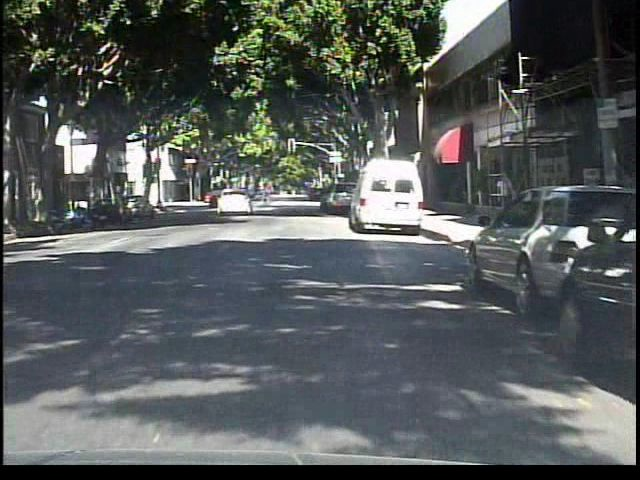person: (489, 165, 516, 227), (257, 179, 277, 213)
